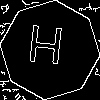H: (25, 25, 65, 74)
